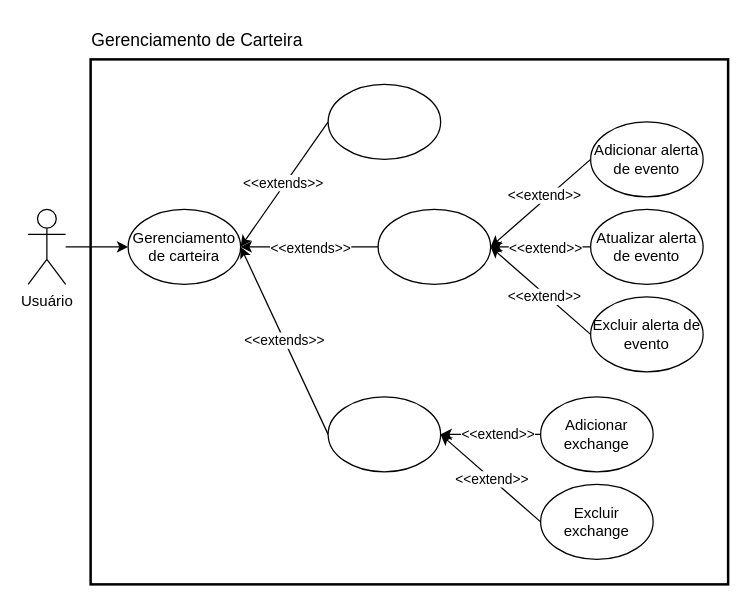
Image size: 751x606. Some labels were removed from this diagram. The shapes that lost their labels are listed below. From the top down, each one's box as (x1, y1, x2, y2) in pixels, then its label:
(327, 83, 441, 159): Visualizar dashboard
(377, 208, 491, 284): Gerenciamento de alertas
(327, 396, 441, 472): Gerenciamento de exchanges
